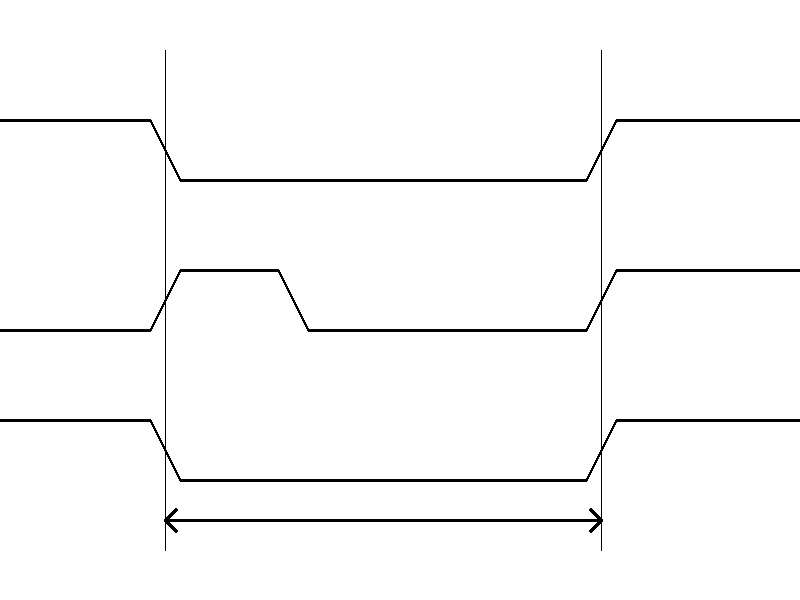double_arrow: (165, 505, 601, 535)
